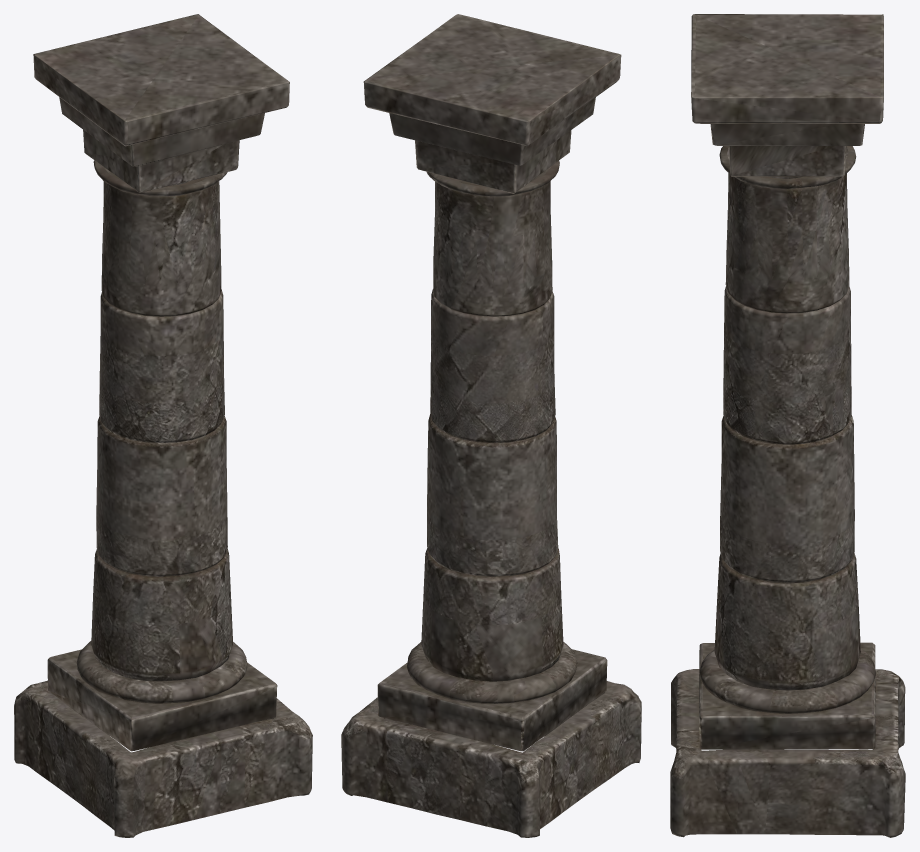
File: d_pillar.glb
3 renders of one model, left to right at view 1: azimuth 30°, elevation 25°; view 2: azimuth 150°, elevation 25°; view 3: azimuth 270°, elevation 25°, orthographic. The views are drawn at different scales.
Parts seen in each view (by area): view 1: d_pillar; view 2: d_pillar; view 3: d_pillar.
Part boxes in pixels (x1=…): d_pillar: x1=14, y1=14, x2=312, y2=837; d_pillar: x1=341, y1=14, x2=641, y2=837; d_pillar: x1=670, y1=14, x2=905, y2=837.
Bounding box in the file's own units: 1.17 × 4 × 1.17.
1 material, 1 textured.
